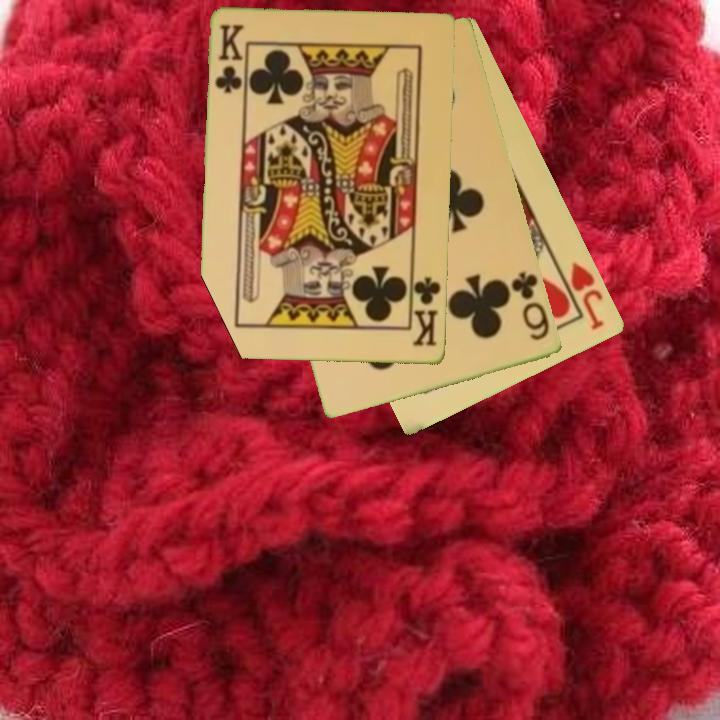6c: (508, 268, 553, 344)
Jh: (568, 259, 608, 333)
Kc: (408, 270, 444, 349), (211, 21, 246, 96)
